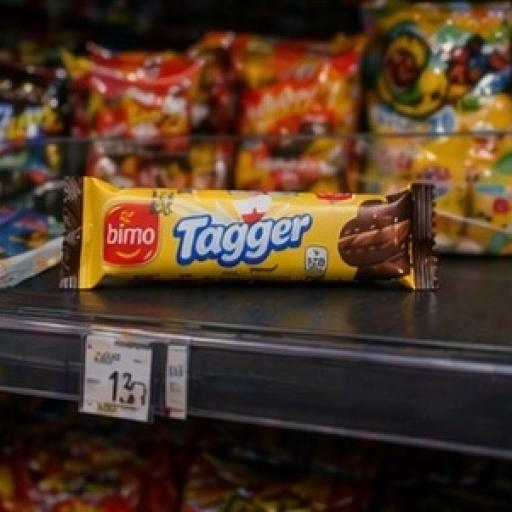tagger: (17, 112, 488, 402)
